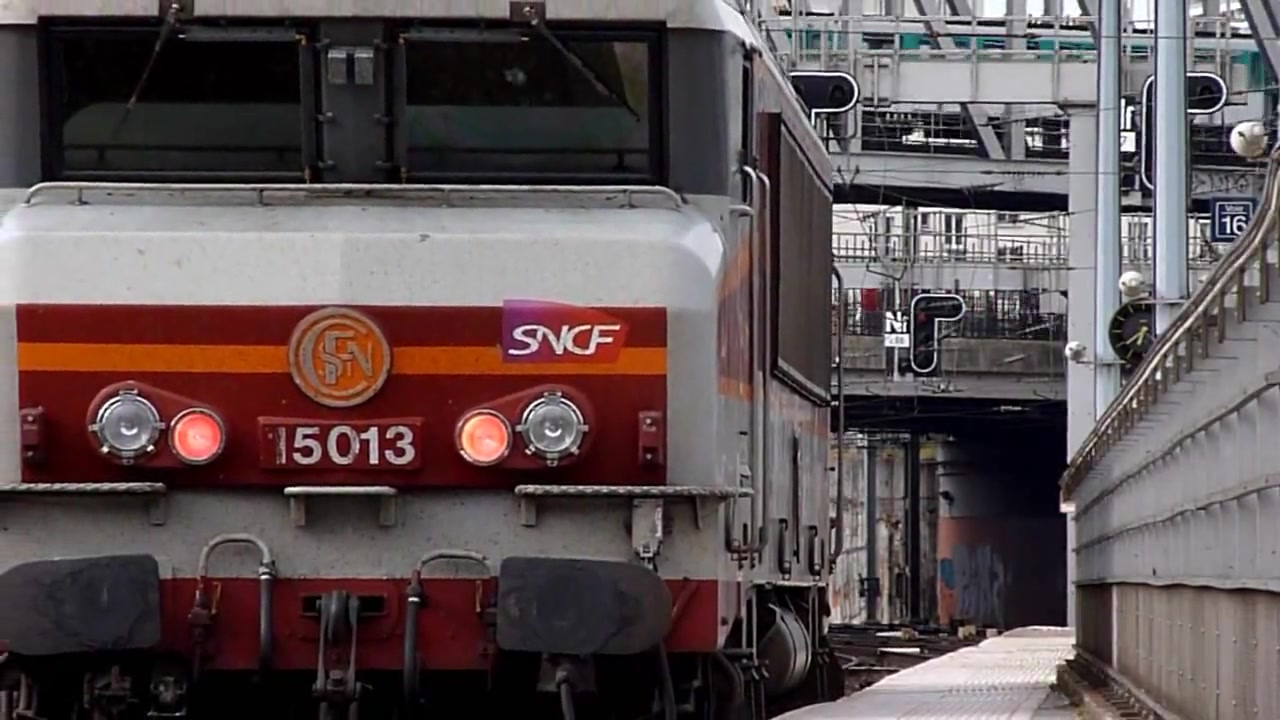train: (1, 1, 845, 720)
